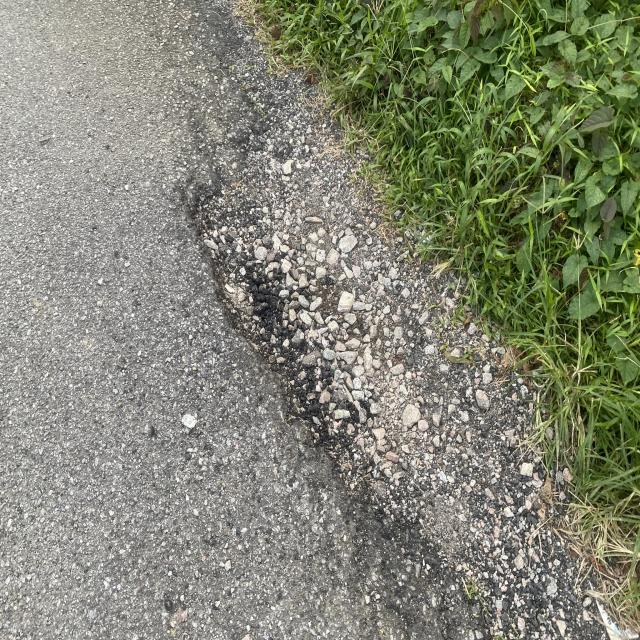Pothole: (158, 159, 404, 504)
